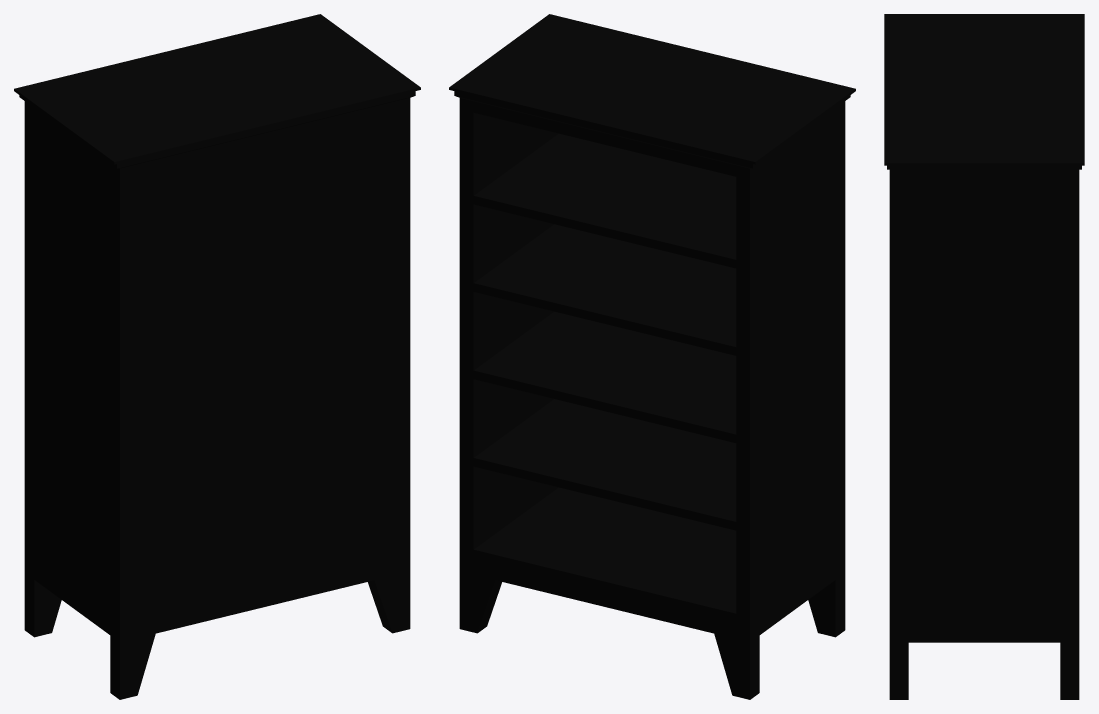
File: Mueble7.fbx
3 renders of one model, left to right at view 1: azimuth 30°, elevation 25°; view 2: azimuth 150°, elevation 25°; view 3: azimuth 270°, elevation 25°, orthographic.
Visible parts, largest first — view 1: pCube9; view 2: pCube9; view 3: pCube9.
Part boxes in pixels (left/top/right/bottom): pCube9: left=14, top=14, right=420, bottom=699; pCube9: left=449, top=14, right=855, bottom=699; pCube9: left=884, top=14, right=1084, bottom=699.
Size of the model in its own units: 9.22 by 15.57 by 5.23.
